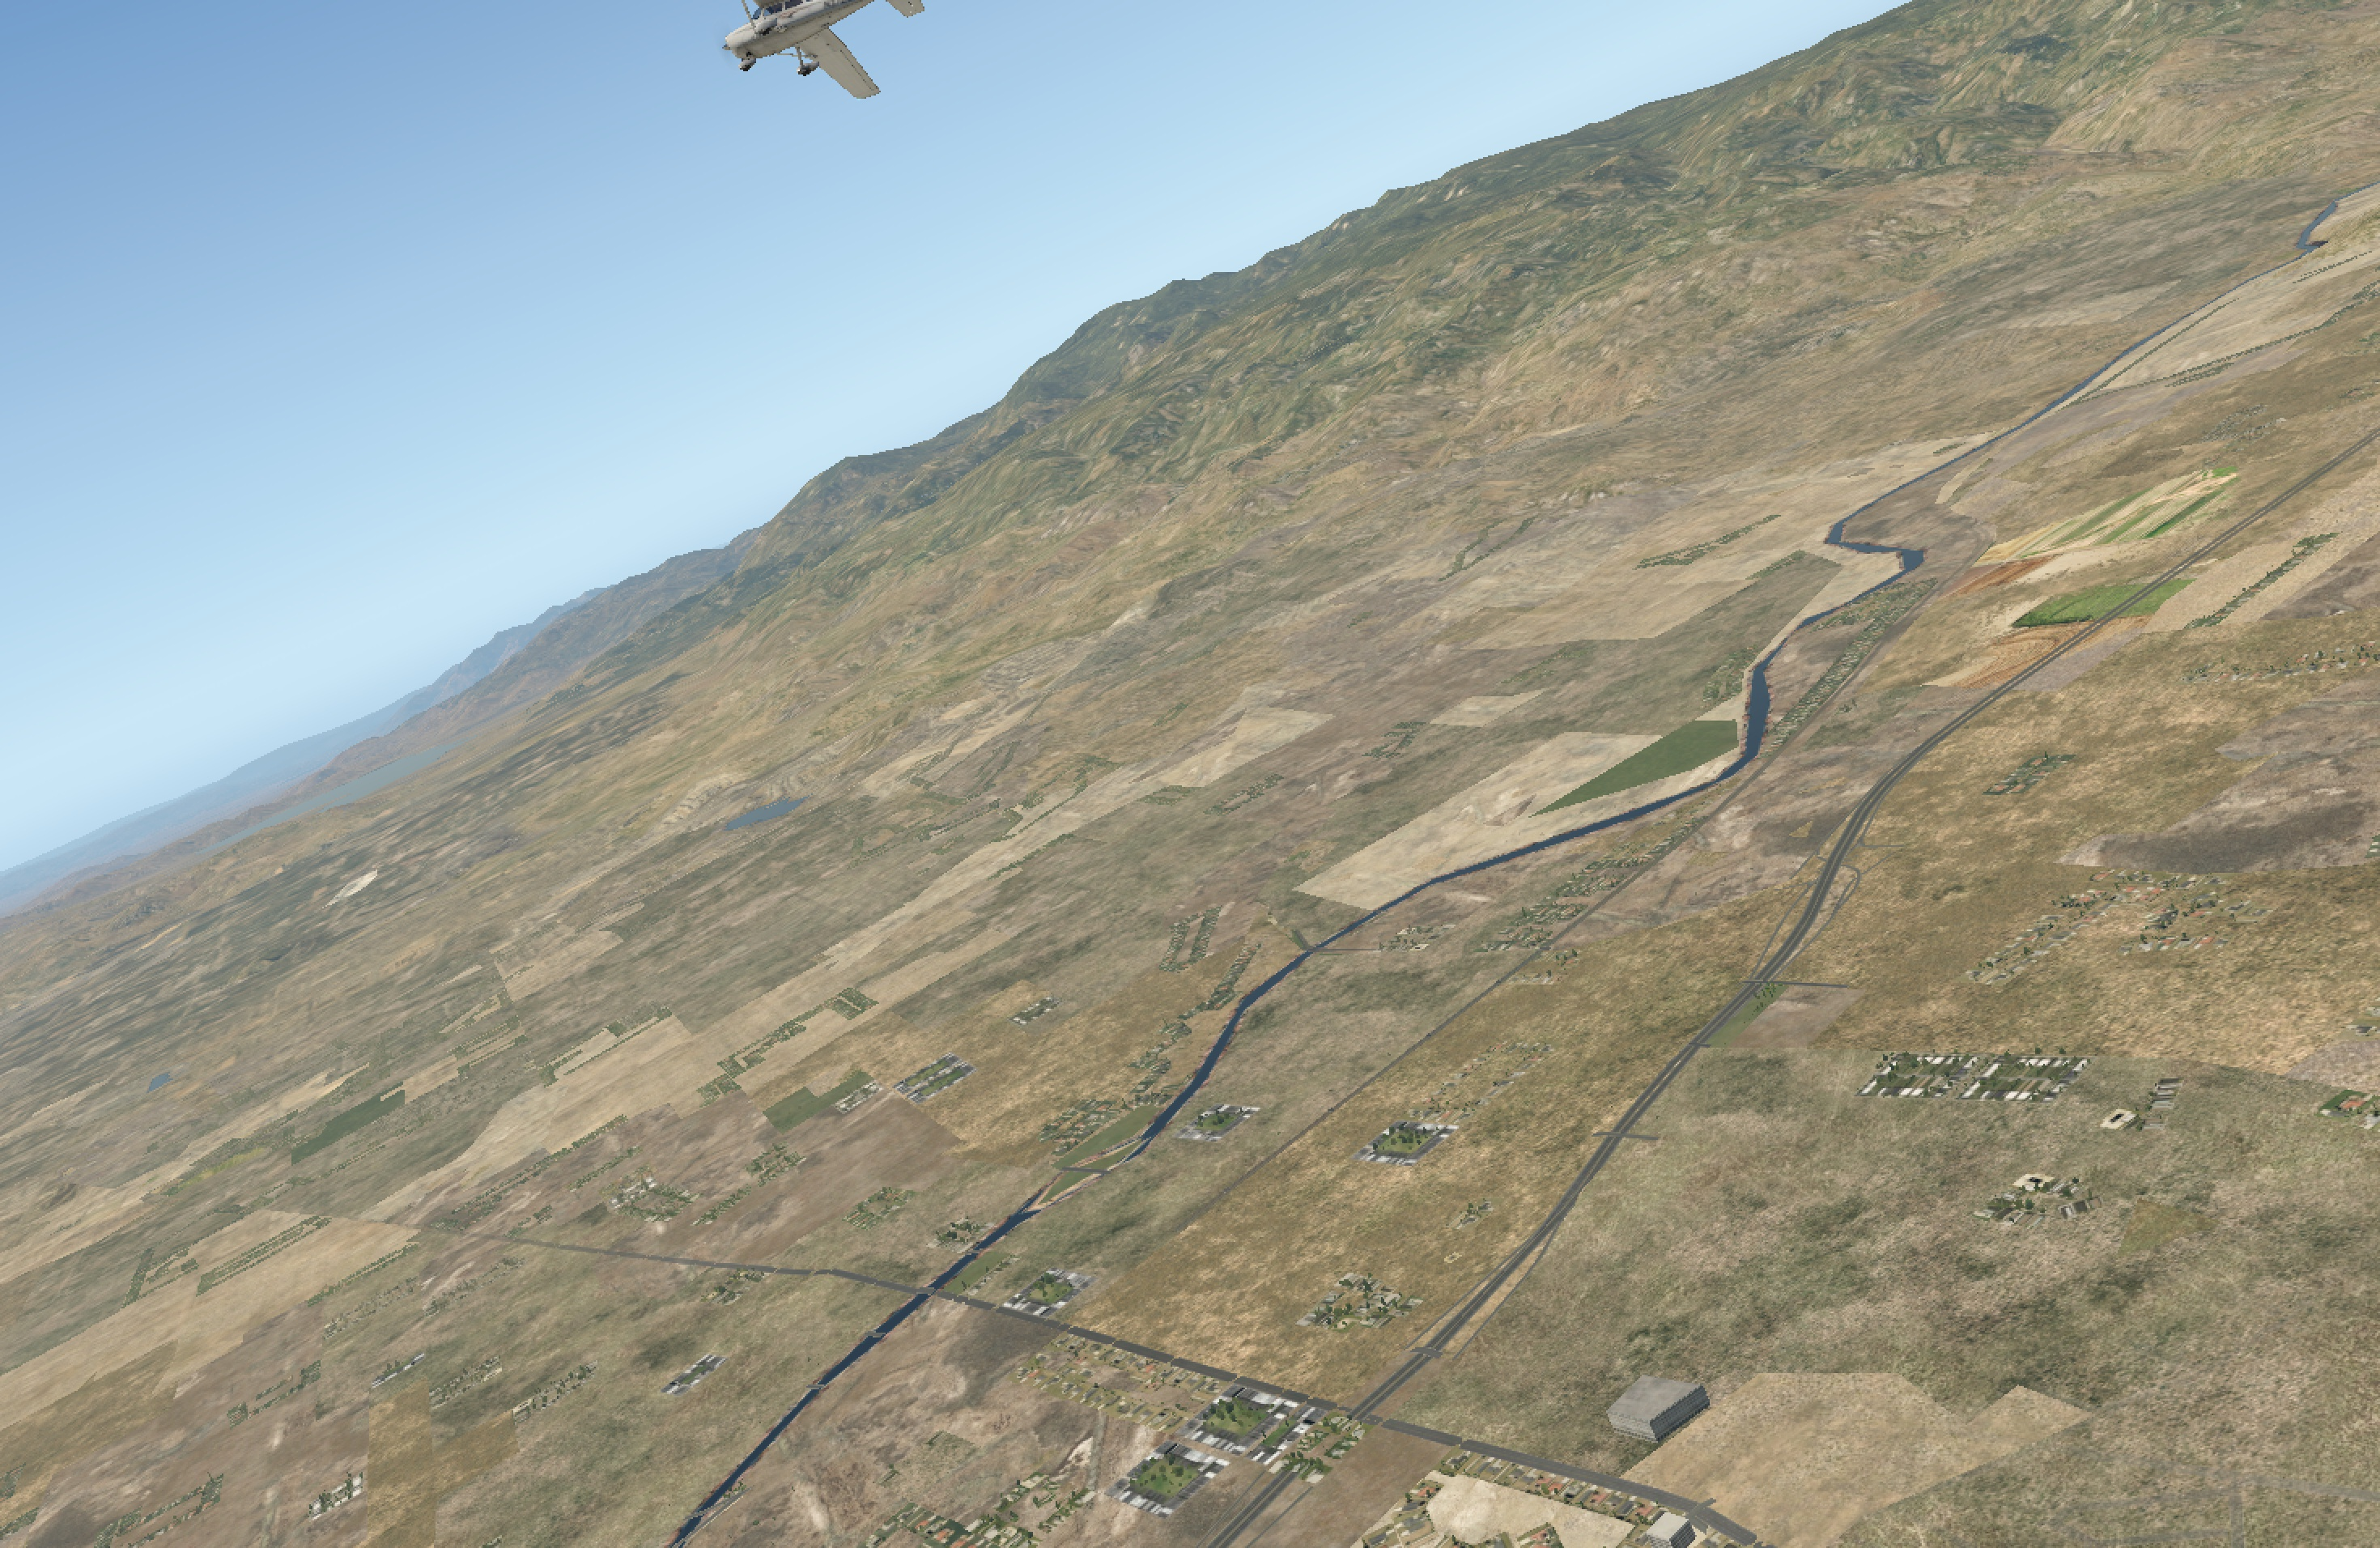aircraft: (677, 0, 881, 64)
